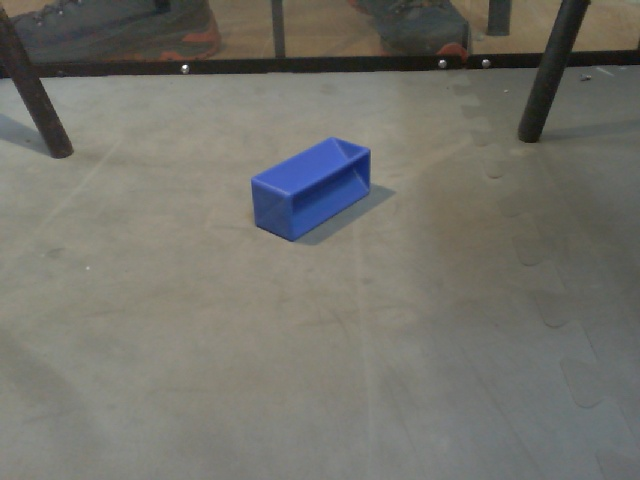BlueSample: (251, 136, 377, 244)
